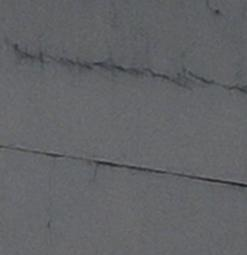fissura: (6, 12, 247, 109)
